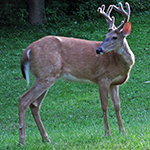deer: (90, 2, 143, 55)
